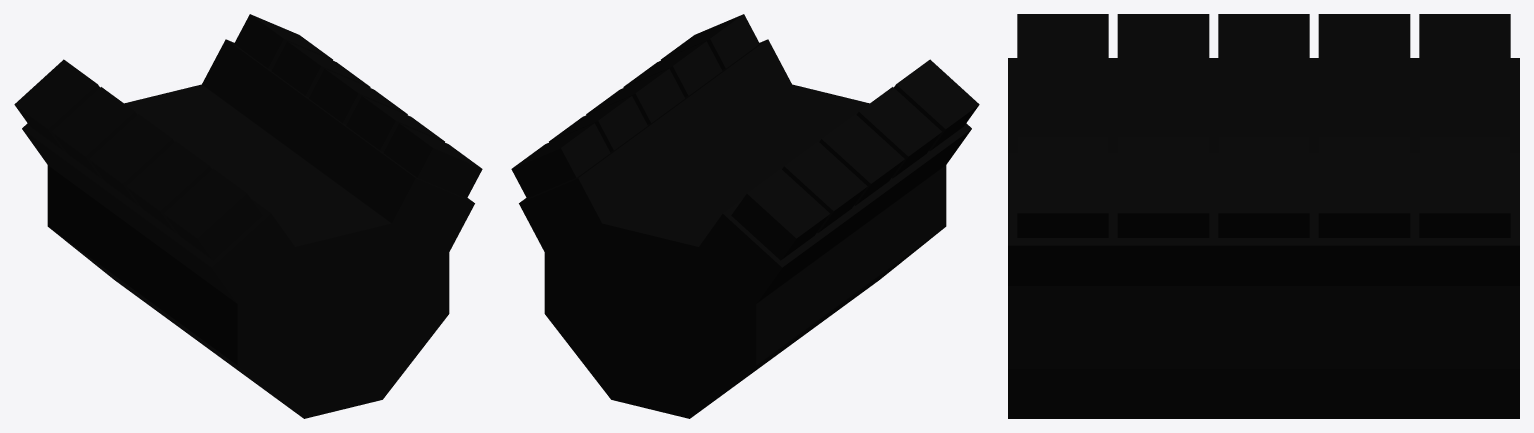
File: v90performantemanual.obj
3 renders of one model, left to right at view 1: azimuth 30°, elevation 25°; view 2: azimuth 150°, elevation 25°; view 3: azimuth 270°, elevation 25°, orthographic. The views are drawn at different scales.
Visible parts, largest first — view 1: cube; view 2: cube; view 3: cube.
Boxes of the visible parts, x1,y1,x2,y2 form: cube: (14, 14, 482, 418); cube: (511, 14, 979, 418); cube: (1008, 14, 1519, 418).
Size of the model in its own units: 0.8474 by 0.6705 by 0.9777.
